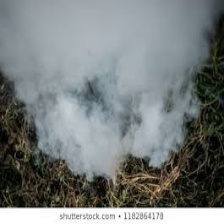smoke: (14, 3, 186, 151)
